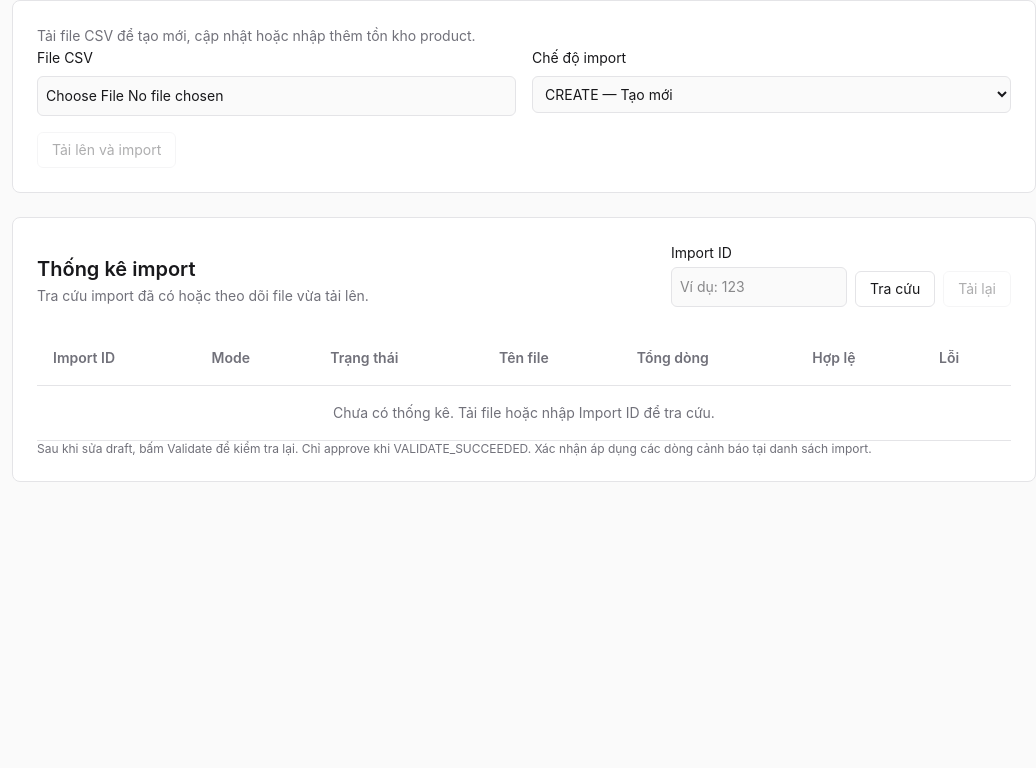
Test: looks up existing imports and preserves action errors after refreshing stats
Type "88" into the field labelled "Import ID" at (759, 287), box x1=671 y1=267 x2=847 y2=307
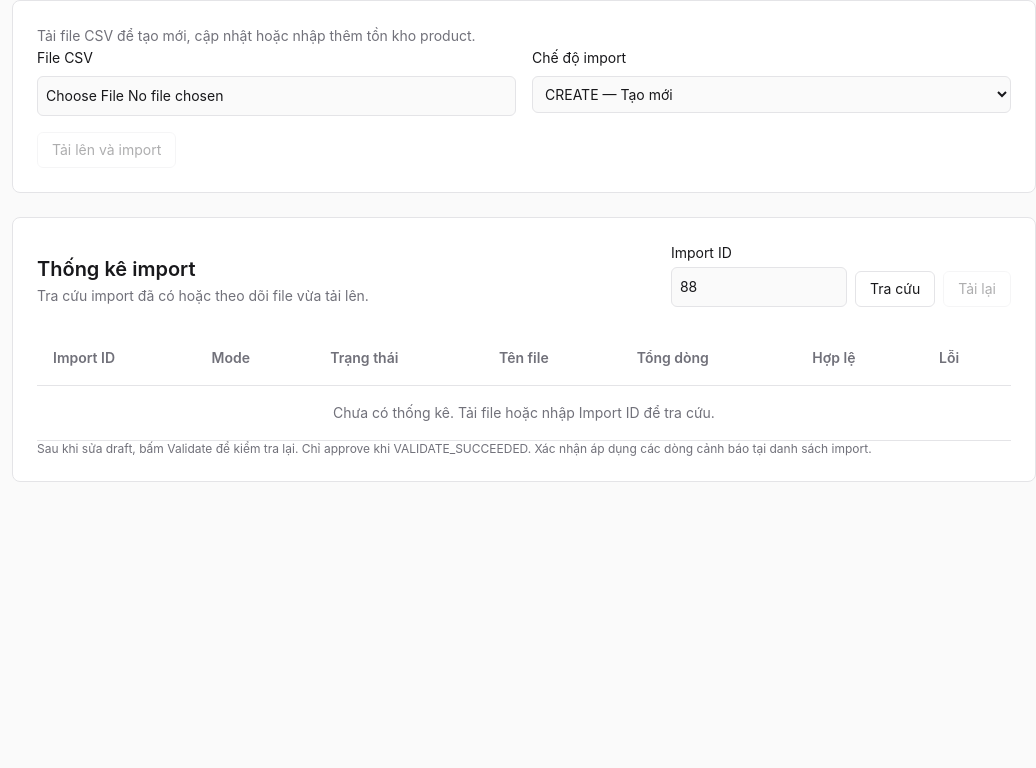
Click the button "Tra cứu" at (895, 289), box x1=855 y1=271 x2=935 y2=307
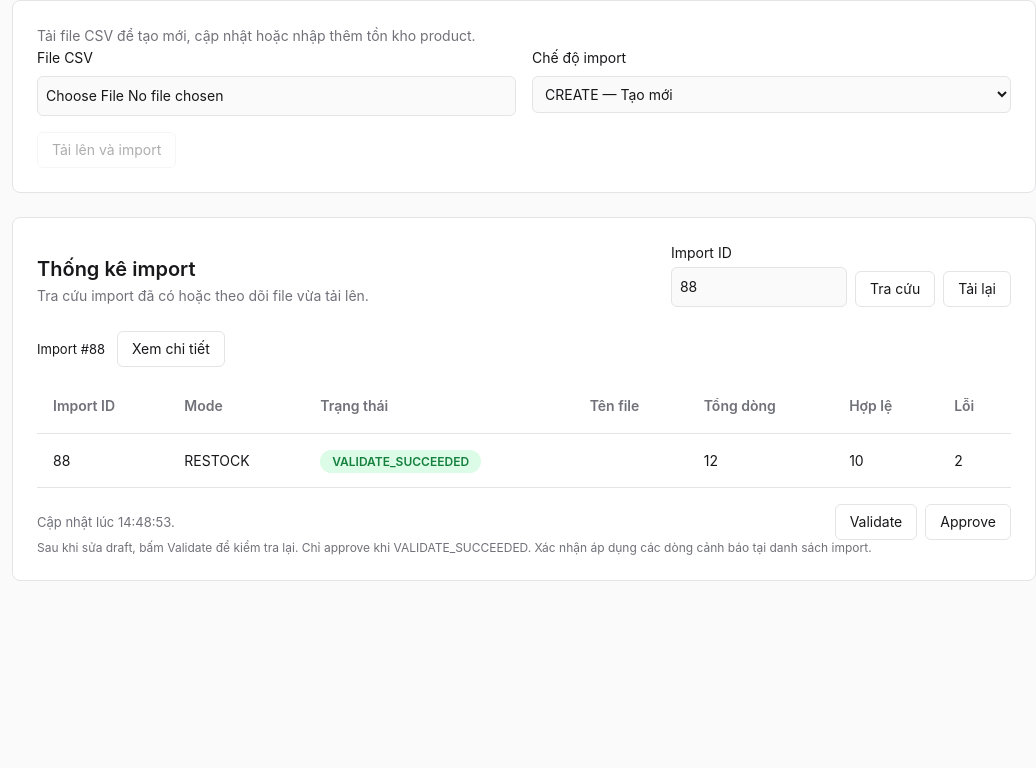
Check: the text "VALIDATE_SUCCEEDED" is shown, box x1=320 y1=450 x2=481 y2=472
Click the button "Approve" at (968, 522), box x1=925 y1=504 x2=1011 y2=540
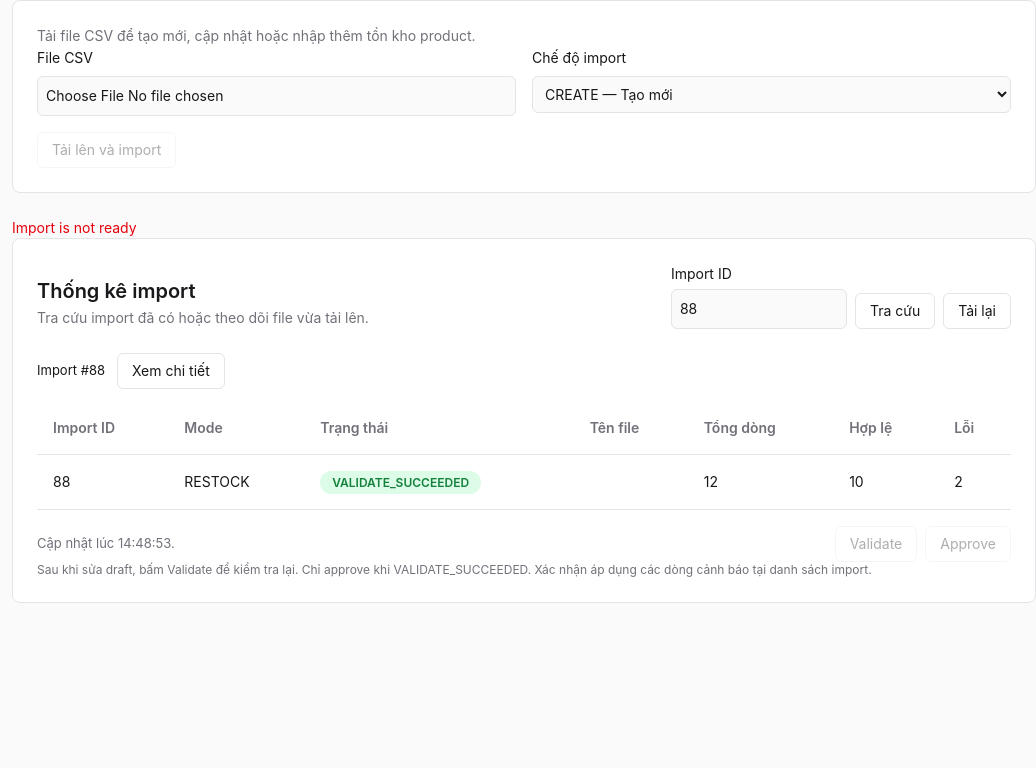
Check: the message "Import is not ready" is shown, box x1=12 y1=219 x2=137 y2=236
